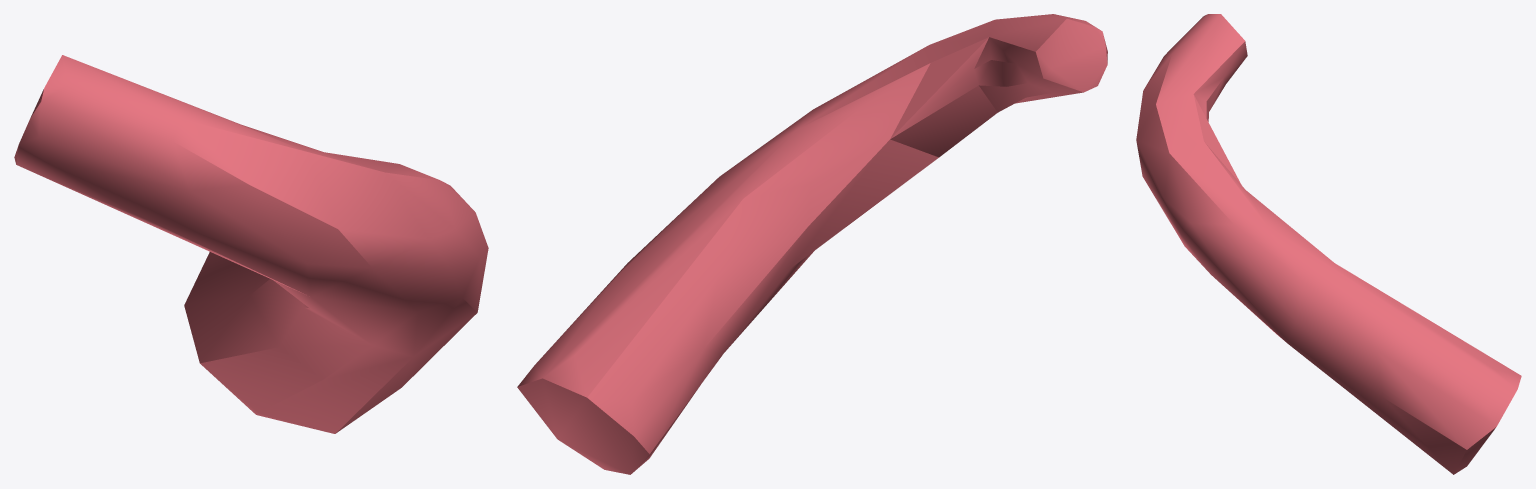
Rendered from fma13279_fj2907.glb.
3 views of the same model, side by side, from view 1: azimuth 30°, elevation 25°; view 2: azimuth 150°, elevation 25°; view 3: azimuth 270°, elevation 25° (orthographic). The views are drawn at different scales.
Visible parts, largest first — view 1: FMA13279_FJ2907; view 2: FMA13279_FJ2907; view 3: FMA13279_FJ2907.
Boxes of the visible parts, x1=… form: FMA13279_FJ2907: x1=14, y1=55, x2=488, y2=433; FMA13279_FJ2907: x1=517, y1=14, x2=1107, y2=474; FMA13279_FJ2907: x1=1136, y1=14, x2=1521, y2=474.
Bounding box in the file's own units: 0.0123 × 0.012 × 0.0124.
